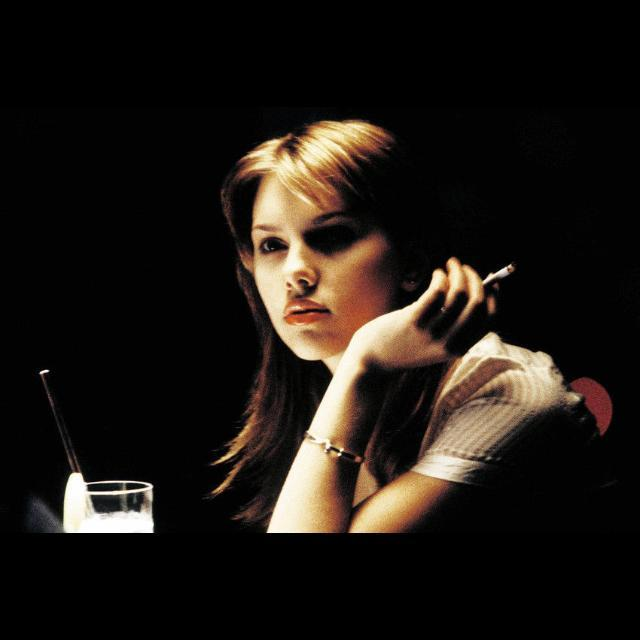rokok: (478, 258, 514, 290)
